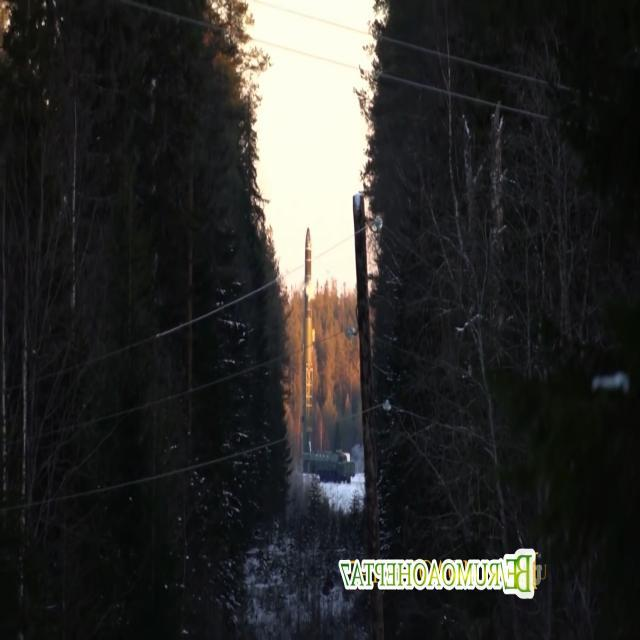Missile: (298, 213, 314, 464)
